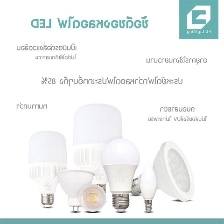light_bulb: (69, 100, 124, 193), (126, 139, 197, 204), (25, 126, 69, 210), (100, 135, 140, 214), (56, 165, 96, 213), (138, 159, 160, 215), (77, 182, 109, 216)
